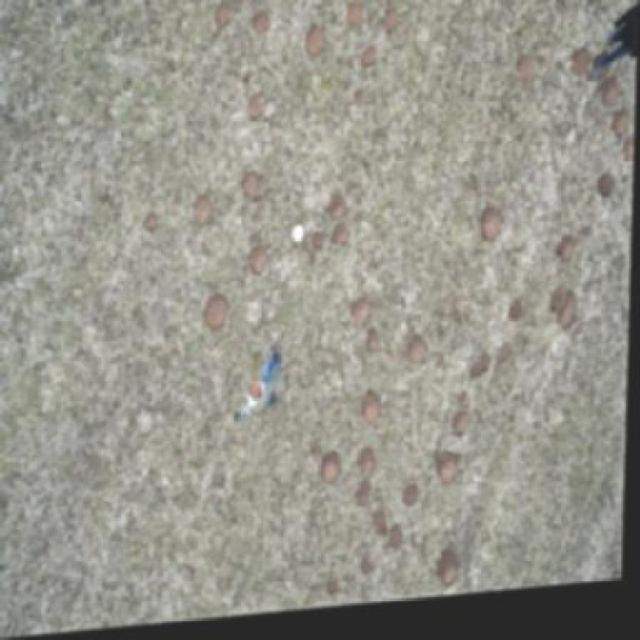Person: (232, 350, 297, 436)
